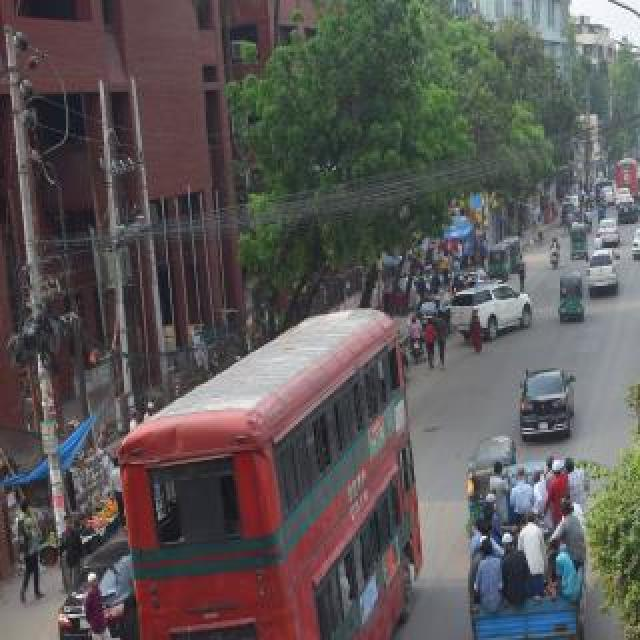bus: (72, 260, 466, 640), (605, 148, 639, 198)
car: (486, 326, 604, 476), (30, 492, 144, 640), (451, 252, 535, 352), (405, 280, 459, 344), (448, 250, 506, 302), (584, 246, 624, 306), (552, 179, 588, 223), (597, 174, 625, 212), (613, 191, 637, 227), (601, 221, 623, 255), (626, 212, 640, 250)
motorbike: (547, 231, 571, 287), (400, 310, 426, 354), (576, 202, 598, 234), (592, 207, 614, 229)
van: (446, 448, 618, 640)
